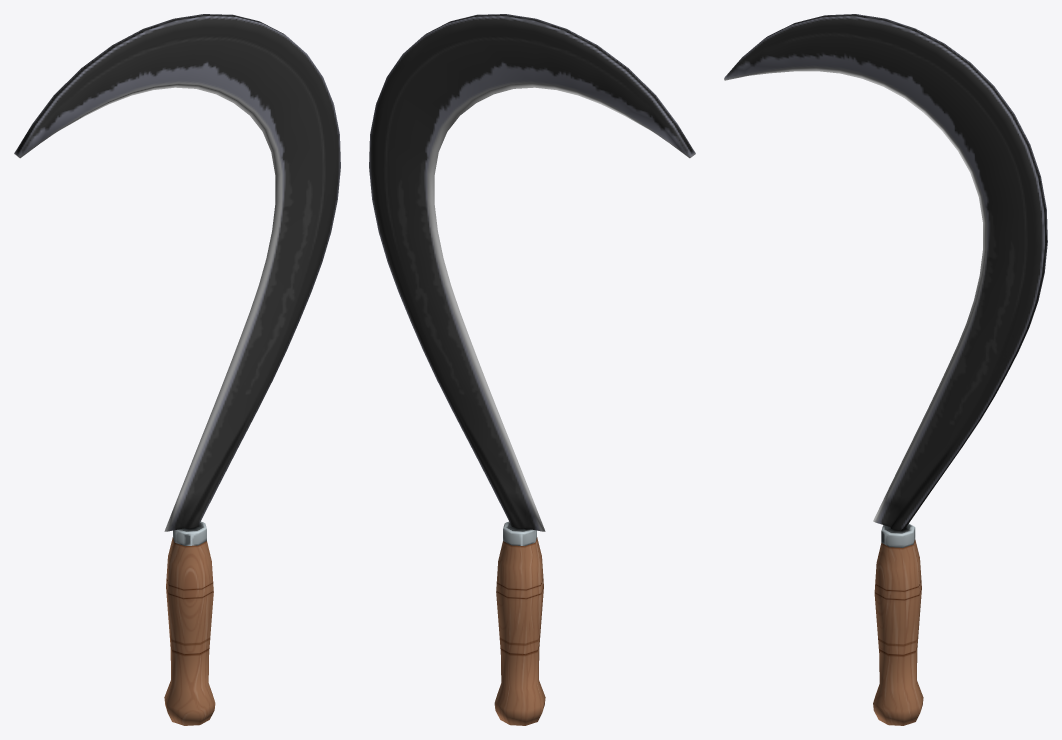
The model's file is SickleHand.fbx.
3 renders of one model, left to right at view 1: azimuth 30°, elevation 25°; view 2: azimuth 150°, elevation 25°; view 3: azimuth 330°, elevation 25°, orthographic.
Parts seen in each view (by area): view 1: SickleHand; view 2: SickleHand; view 3: SickleHand.
Part boxes in pixels (bbox=[...]): SickleHand: bbox=[14, 14, 340, 725]; SickleHand: bbox=[369, 14, 695, 725]; SickleHand: bbox=[724, 14, 1047, 725].
Bounding box in the file's own units: 0.4435 × 0.9198 × 0.0628.
